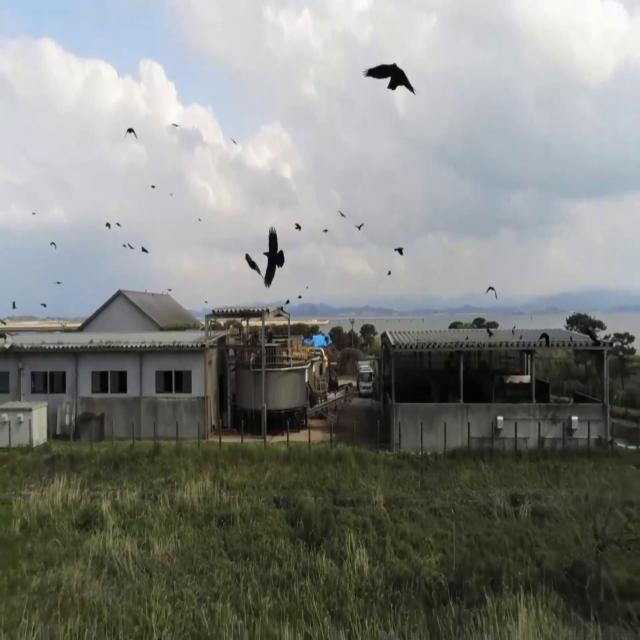bird: (365, 37, 416, 126), (244, 237, 266, 296), (125, 116, 138, 152), (485, 276, 498, 306), (393, 237, 404, 266), (122, 235, 134, 257), (354, 214, 364, 238), (294, 213, 302, 240), (140, 237, 148, 261), (338, 202, 346, 224), (486, 322, 494, 343), (50, 234, 56, 256)
